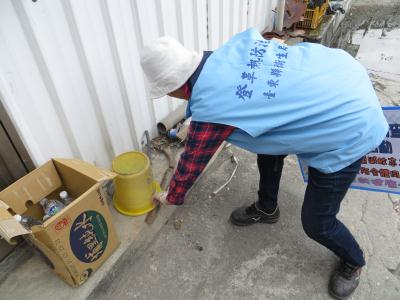bottle: (33, 194, 65, 214), (11, 211, 45, 229)
box: (1, 156, 124, 290)
bucket: (105, 149, 164, 217)
